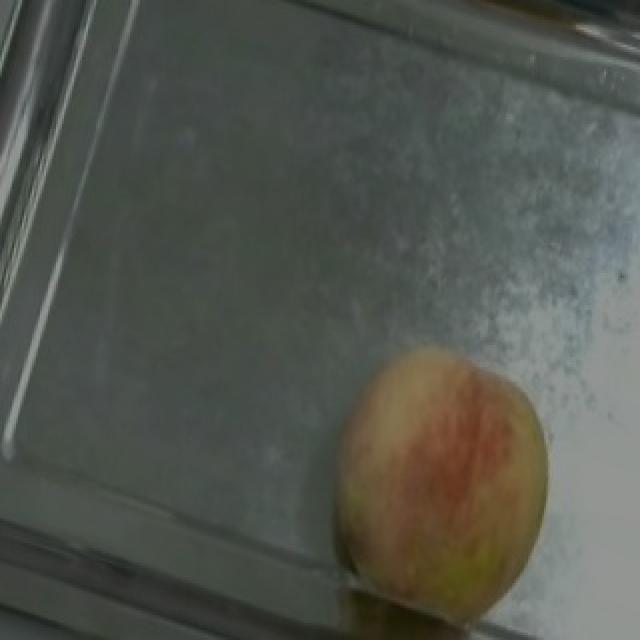Fruit: (284, 312, 592, 640)
